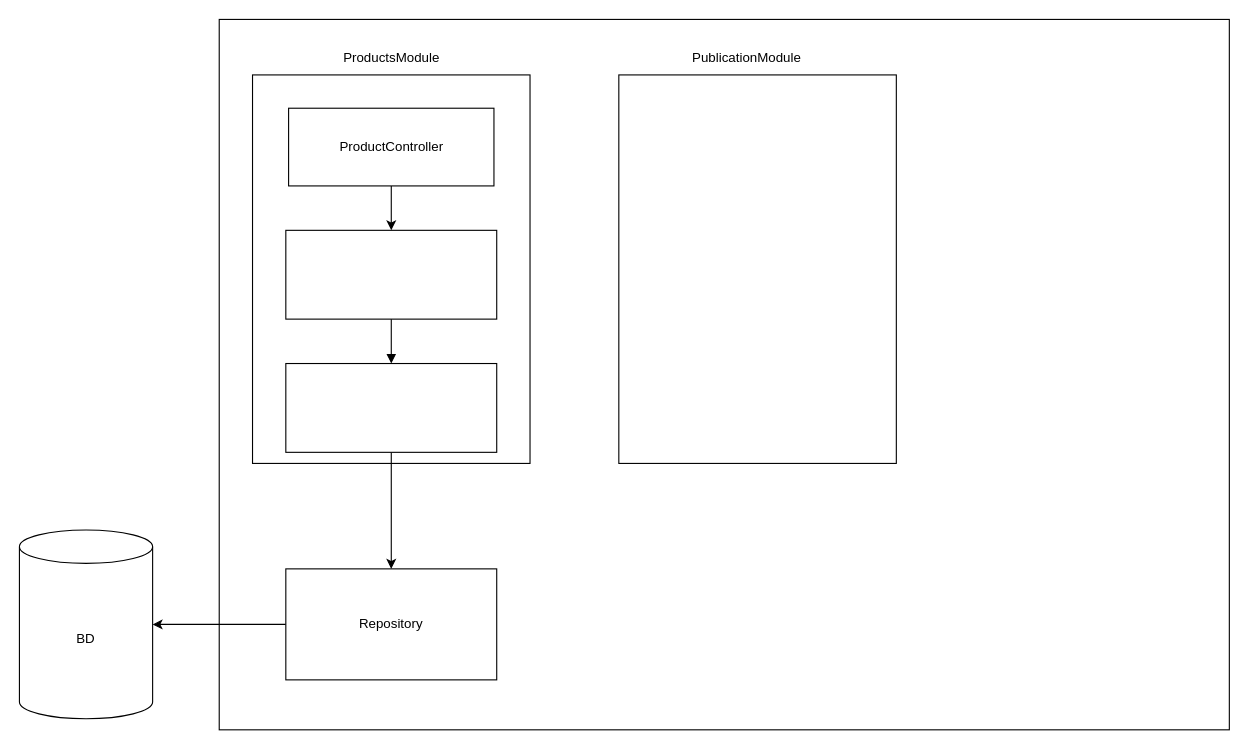
Image size: 1249x749. Some labels were removed from this diagram. Each missing label, with the centre of its shape:
"ProductRepository" belongs at pixel 391 407.
"ProductService" belongs at pixel 391 274.
